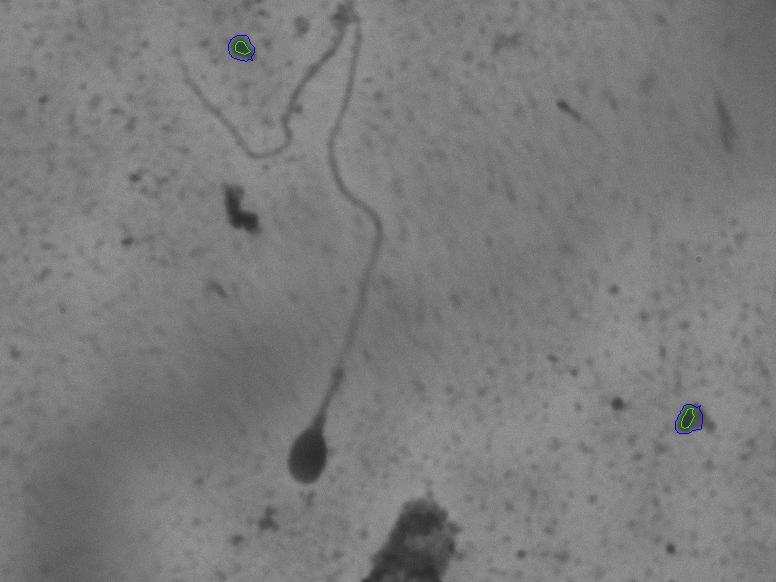Normal: (149, 2, 429, 507)
